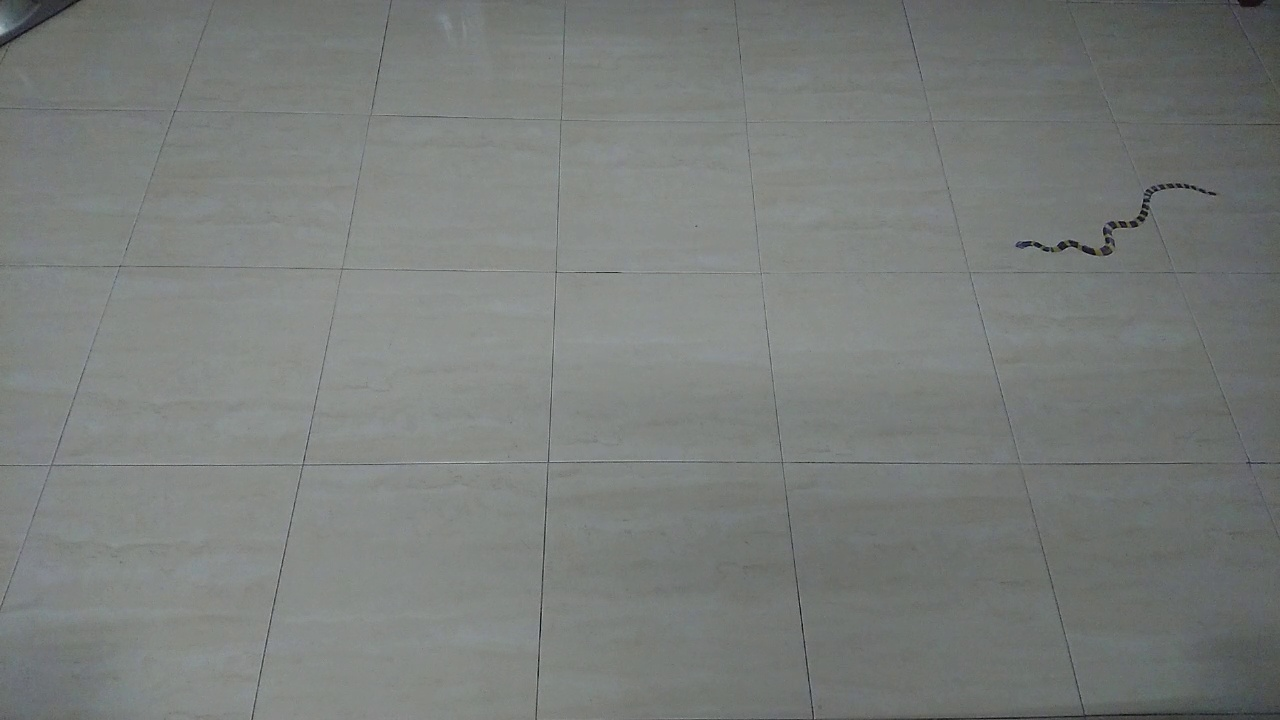snake: (1004, 172, 1230, 267)
